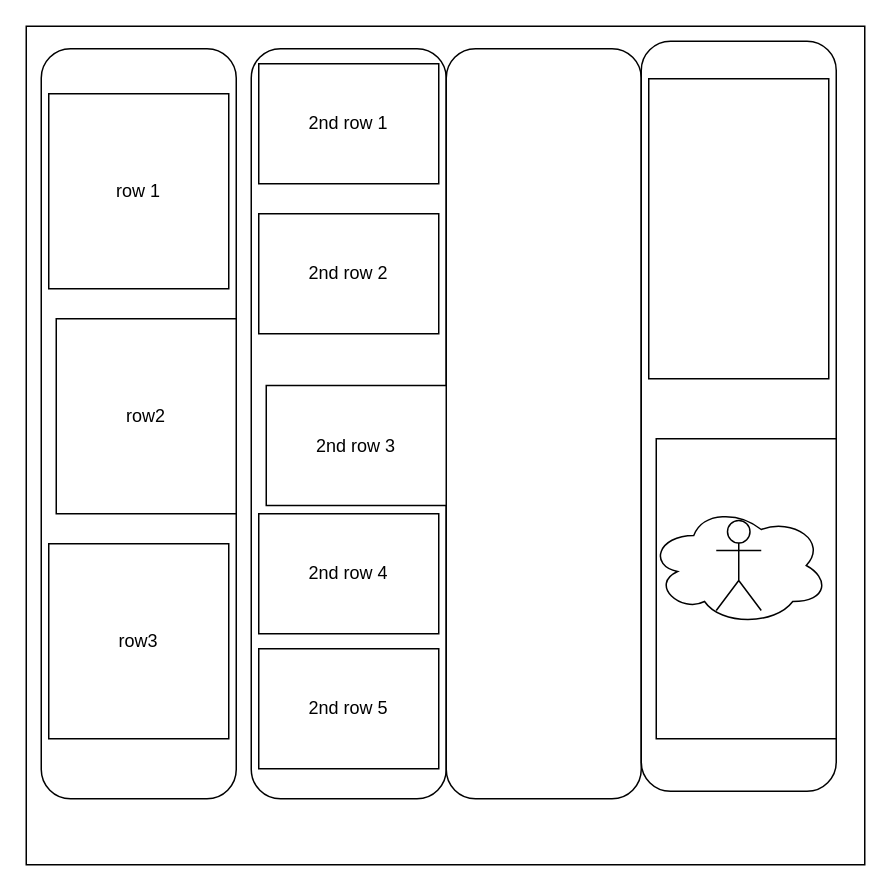
The diagram is 891 pixels wide and 891 high, and some of its shapes have lost their labels. Each missing label, with the centre of its shape:
"Actor" goes at (x=738, y=564).
"empty column" goes at (x=543, y=423).
"last coumn row" goes at (x=738, y=228).
